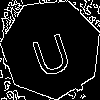U: (26, 23, 75, 79)
